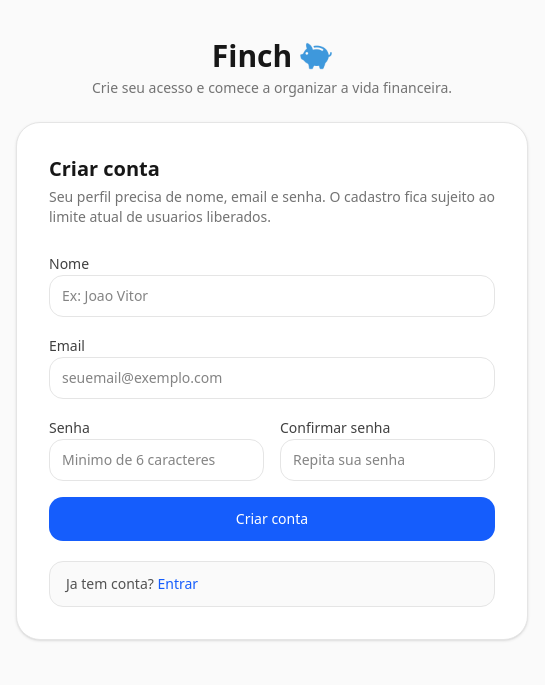
Test: RegisterPage › renders the backend error message when registration fails
This screenshot has width=545, height=685.
Type "Maria" into the field with placeholder "Ex: Joao Vitor" at [272, 296], box [49, 275, 495, 317]
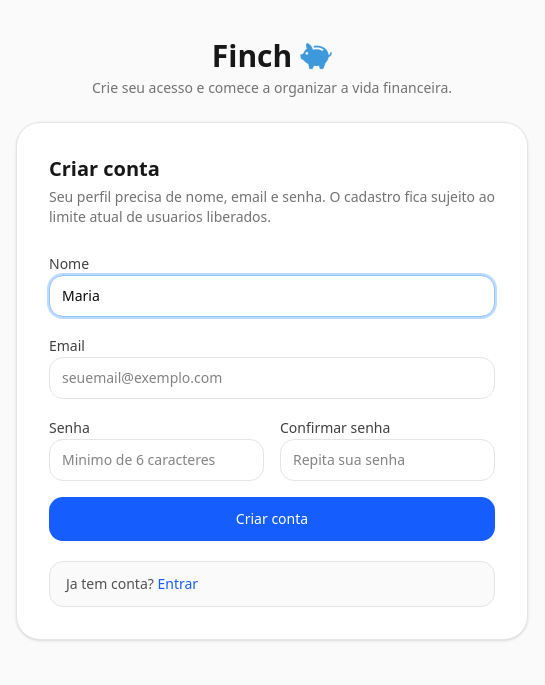
Type "maria@example.com" into the field with placeholder "seuemail@exemplo.com" at [272, 378], box [49, 357, 495, 399]
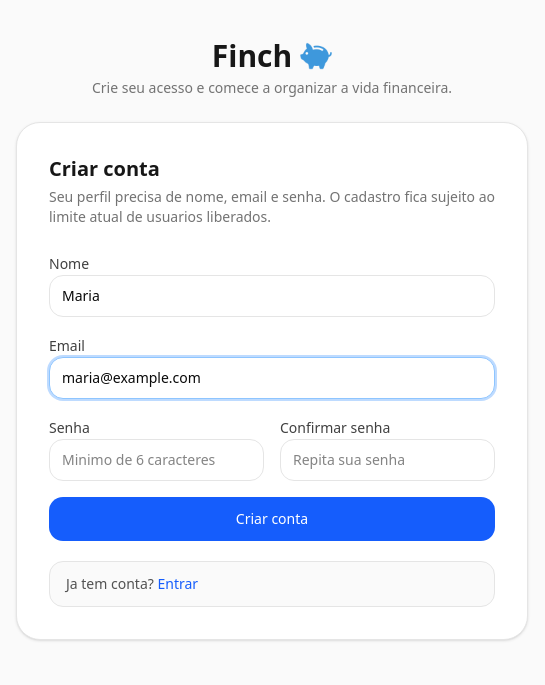
Type "password123" into the password field with placeholder "Minimo de 6 caracteres" at [156, 460], box [49, 439, 264, 481]
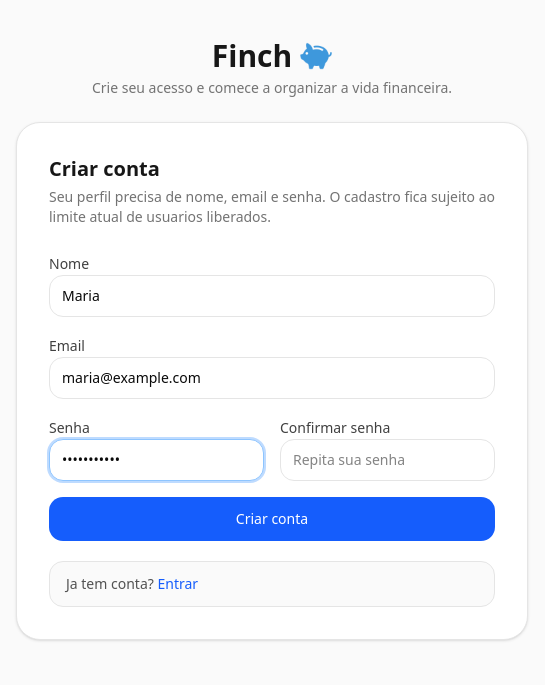
Type "password123" into the password field with placeholder "Repita sua senha" at [388, 460], box [280, 439, 495, 481]
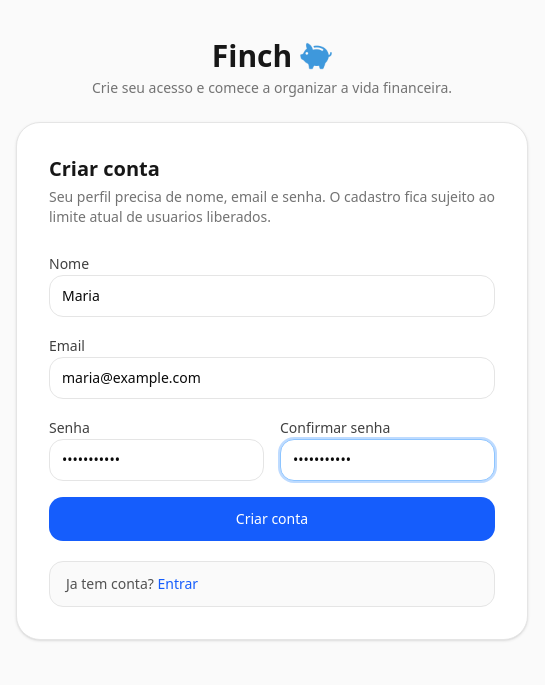
Click the button "Criar conta" at [272, 519], box [49, 497, 495, 541]
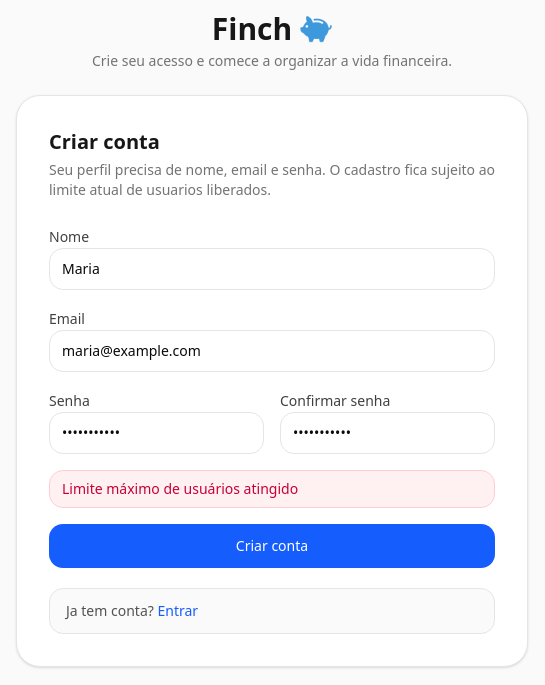
Result: the text "Limite máximo de usuários atingido" is shown at [49, 470, 495, 508]
